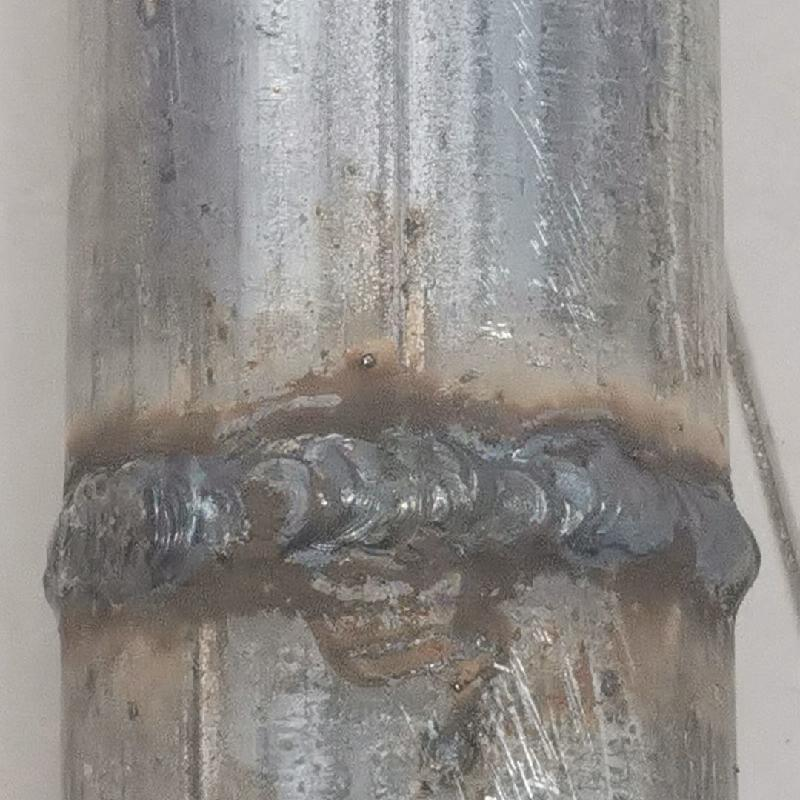good: (33, 448, 764, 607)
